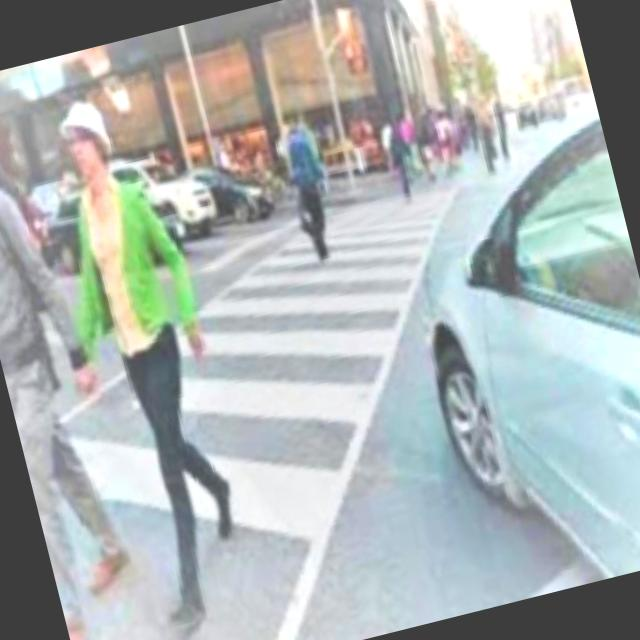Person: (34, 77, 292, 639), (0, 64, 175, 640), (264, 102, 344, 264)
